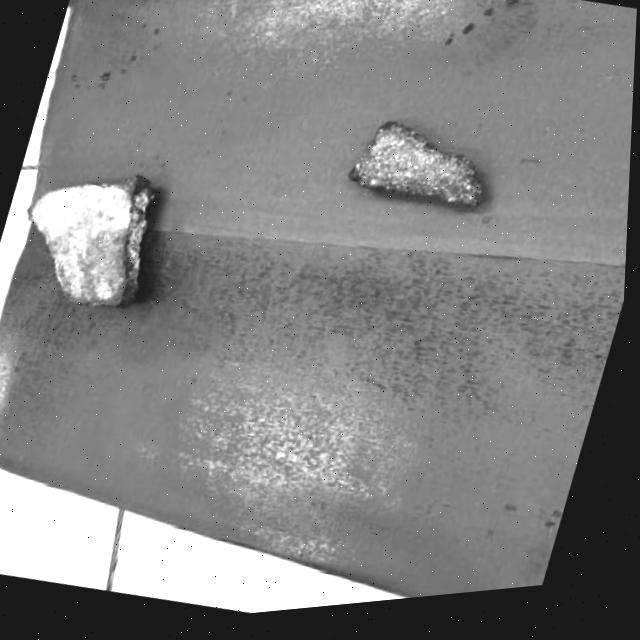Road Debris: (397, 12, 525, 115), (524, 259, 629, 380)
